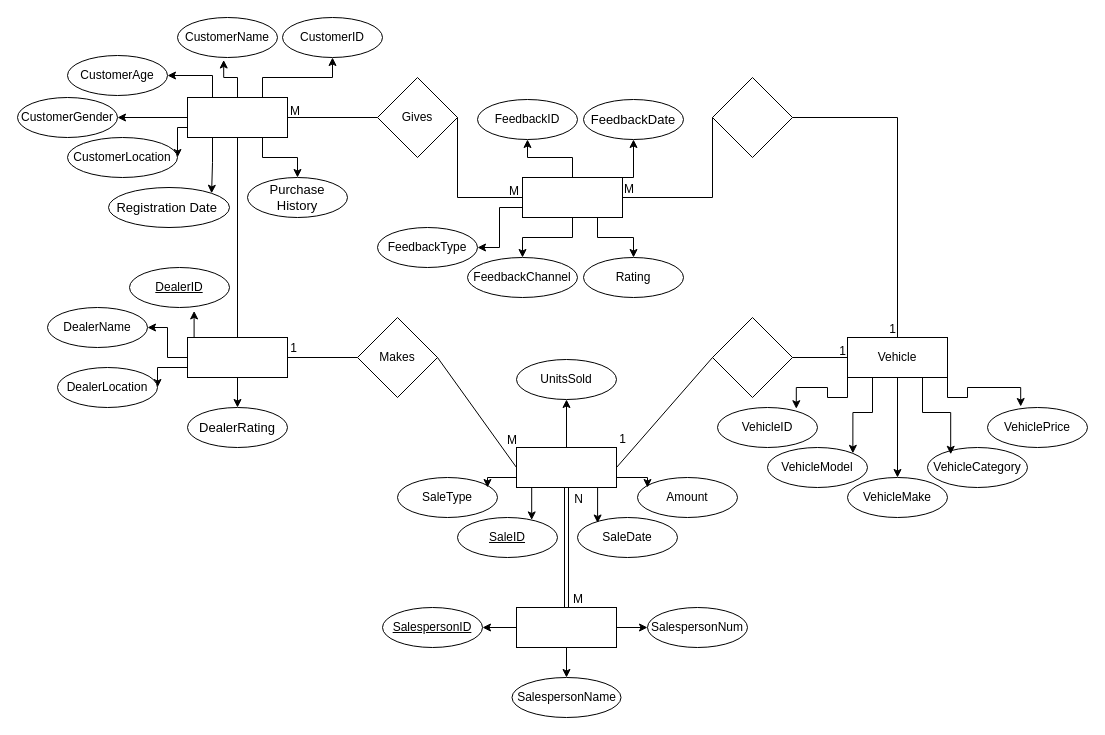
Some shapes in this 1105 by 735 pixel diagram are drawn without their labels. The shapes that lost their labels are listed below. From the top down, each one's centre as x and y in pixels, then its label:
pixel 237 117: Customer
pixel 752 117: About
pixel 572 197: Feedback
pixel 237 357: Dealer
pixel 752 357: Involves
pixel 566 467: Sales
pixel 566 627: Salesperson
